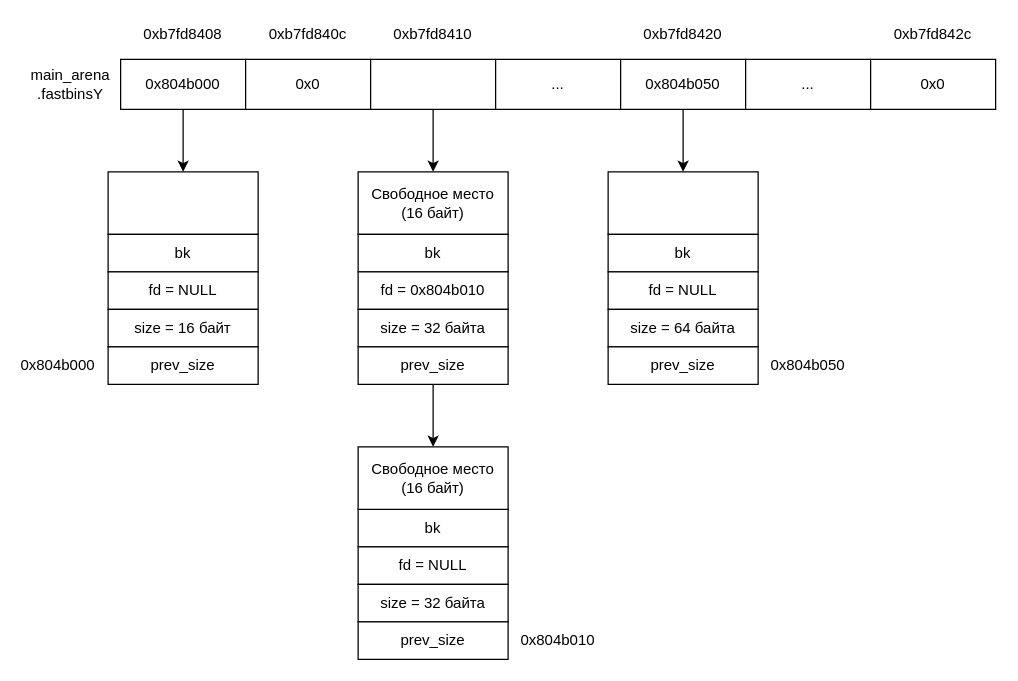
Image size: 1018x681. Some labels were removed from this diagram. Each missing label, with the centre of its shape:
0x804b030: (x=432, y=83)
Свободное место (0 байт): (x=182, y=202)
Свободное место (48 байт): (x=682, y=202)
